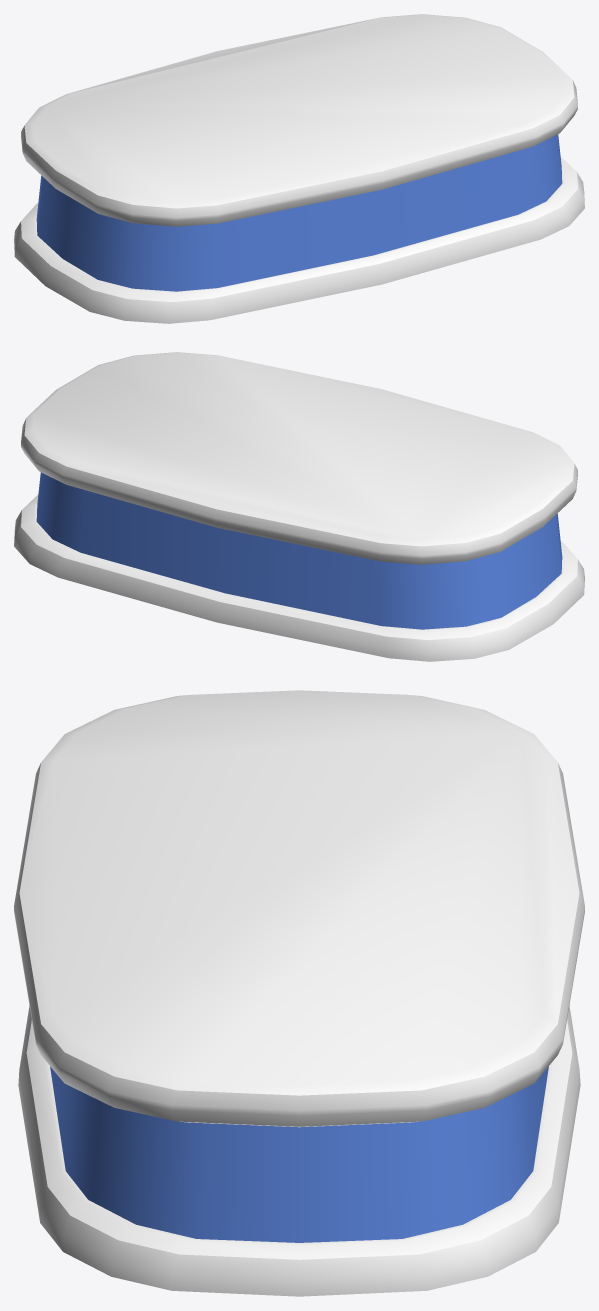
File: StoneWall017.fbx
3 views of the same model, one above another, from view 1: azimuth 30°, elevation 25°; view 2: azimuth 150°, elevation 25°; view 3: azimuth 270°, elevation 25° (orthographic). The views are drawn at different scales.
Visible parts, largest first — view 1: StoneWall017; view 2: StoneWall017; view 3: StoneWall017.
Boxes of the visible parts, x1=… form: StoneWall017: x1=14, y1=14, x2=584, y2=323; StoneWall017: x1=14, y1=352, x2=584, y2=661; StoneWall017: x1=14, y1=690, x2=584, y2=1296.
Size of the model in its own units: 1126 by 245 by 643.
